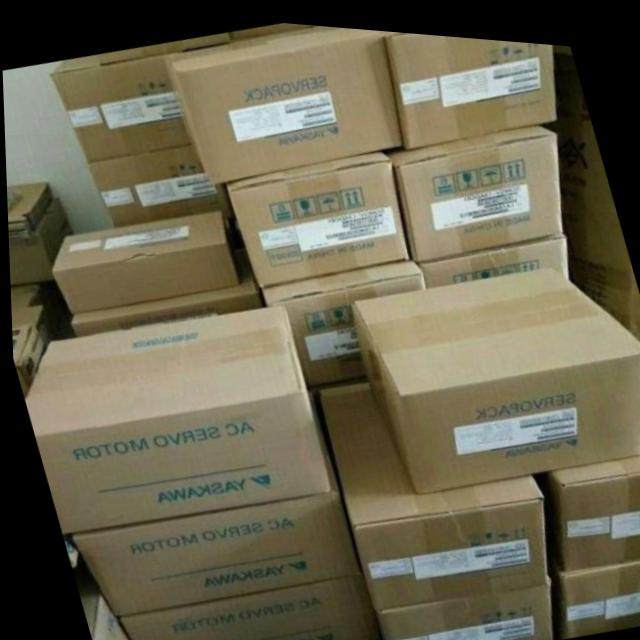box: (21, 300, 328, 534), (348, 256, 640, 488), (314, 376, 542, 605), (163, 20, 401, 182), (66, 483, 357, 615), (224, 144, 406, 283), (382, 115, 560, 255), (370, 24, 554, 144), (259, 251, 423, 383), (50, 207, 239, 313), (114, 570, 378, 640), (48, 53, 191, 162), (67, 272, 258, 336), (369, 572, 547, 640), (540, 443, 640, 563), (87, 140, 227, 224), (419, 223, 569, 279), (559, 552, 640, 629), (7, 196, 70, 285), (95, 28, 232, 64), (5, 179, 51, 238), (77, 594, 126, 640)
